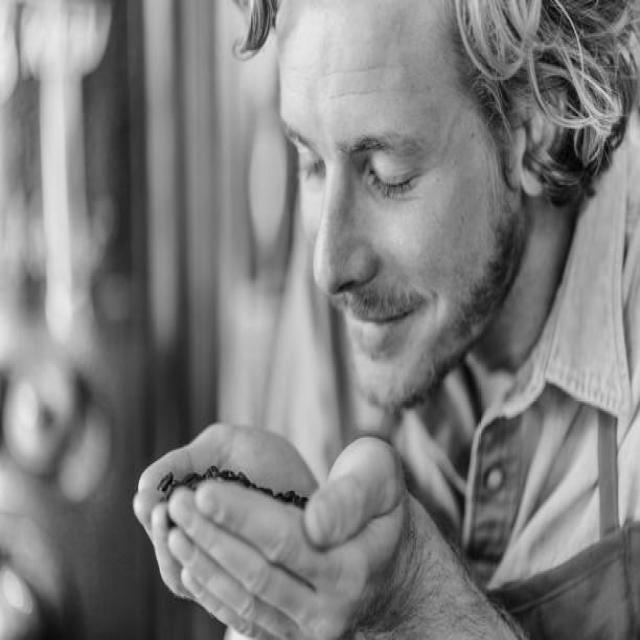real: (275, 0, 564, 405), (282, 103, 444, 217)
